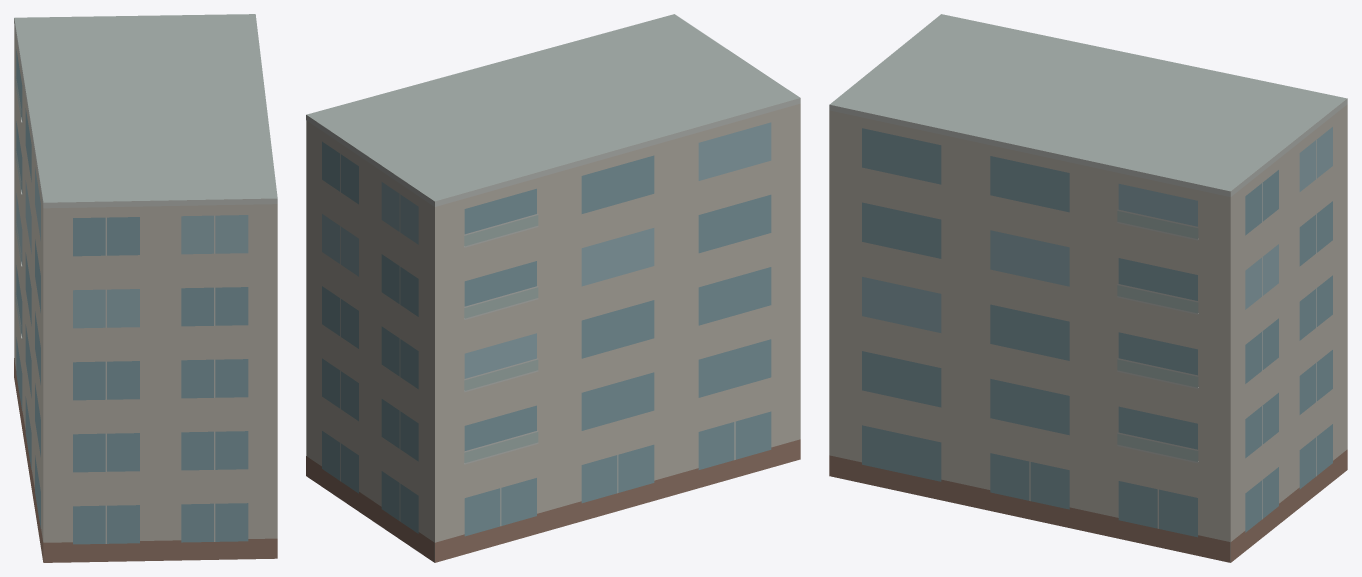
File: survey-upis-32843577.glb
3 views of the same model, side by side, from view 1: azimuth 30°, elevation 25°; view 2: azimuth 150°, elevation 25°; view 3: azimuth 270°, elevation 25° (orthographic). The views are drawn at different scales.
Visible parts, largest first — view 1: survey-upis-32843577.tmp; view 2: survey-upis-32843577.tmp; view 3: survey-upis-32843577.tmp.
Part boxes in pixels (x1,y1,x2,y2): survey-upis-32843577.tmp: (14, 14, 277, 562); survey-upis-32843577.tmp: (306, 14, 800, 562); survey-upis-32843577.tmp: (829, 14, 1347, 562).
Bounding box in the file's own units: 16.19 × 15.8 × 19.98.
